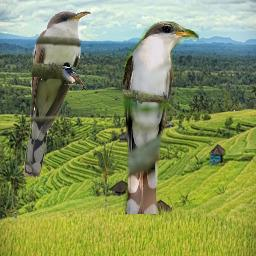Cuckoo: (121, 20, 199, 214), (24, 10, 92, 178)
Swallow: (62, 62, 88, 92)
